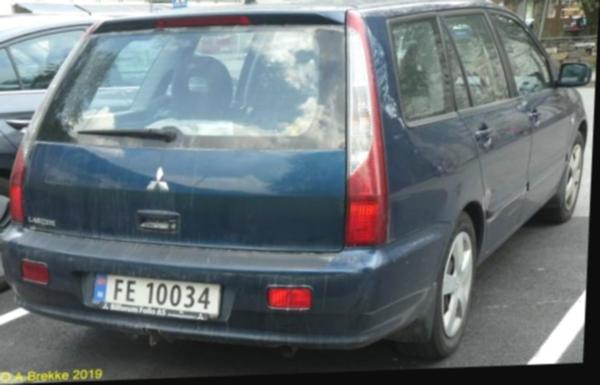License_Plate: (82, 258, 231, 336)
